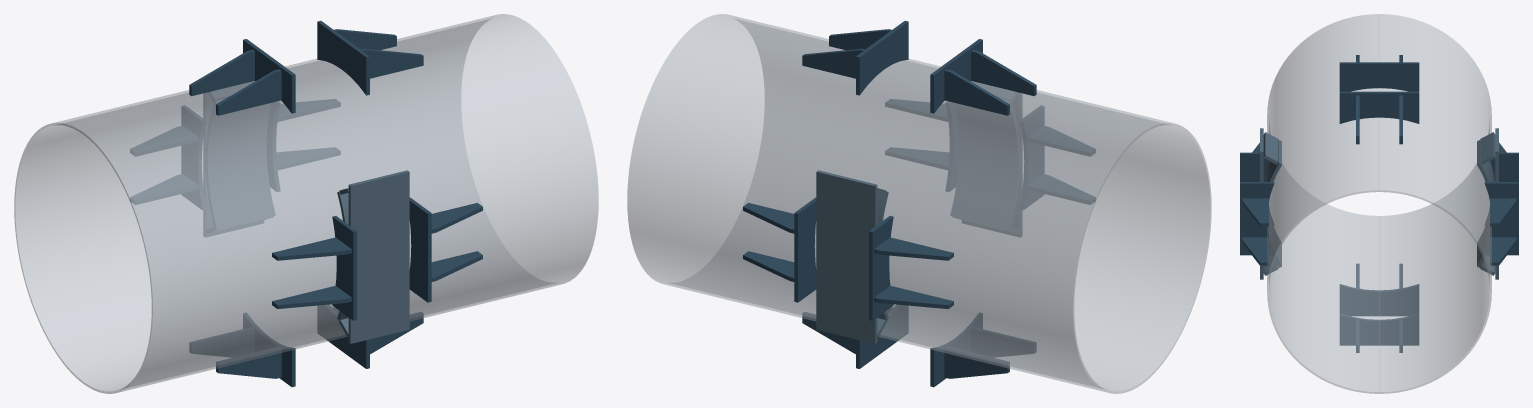
The model's file is TS-668.00.00-20-opora-dn1020-ris2.glb.
3 views of the same model, side by side, from view 1: azimuth 30°, elevation 25°; view 2: azimuth 150°, elevation 25°; view 3: azimuth 270°, elevation 25° (orthographic). The views are drawn at different scales.
Parts seen in each view (by area): view 1: truba, bok_26, bok_29, upor_7, upor_1, upor_10, upor_22, upor_6, upor_5, upor_17, upor_13, upor_18 (+15 smaller); view 2: truba, bok_30, bok_25, upor_19, upor_1, upor_22, upor_10, upor_5, upor_6, upor_18, upor_13, upor_17 (+15 smaller); view 3: truba, upor_16, upor_4, upor_1, upor_13, upor_7, upor_19, bok_25, bok_29, upor_10, upor_22, upor_9 (+7 smaller).
Part boxes in pixels (box(x1,y1,x2,y2)): truba: box(14, 14, 598, 393); bok_26: box(348, 170, 409, 343); bok_29: box(206, 99, 275, 229); upor_7: box(409, 197, 431, 302); upor_1: box(317, 20, 369, 95); upor_10: box(332, 216, 356, 320); upor_22: box(181, 106, 205, 209); upor_6: box(216, 69, 281, 115); upor_5: box(189, 49, 254, 96); upor_17: box(216, 346, 281, 378); upor_13: box(317, 305, 369, 368); upor_18: box(189, 327, 254, 357); truba: box(627, 14, 1211, 393); bok_30: box(816, 170, 877, 343); bok_25: box(950, 99, 1019, 229); upor_19: box(794, 197, 816, 302); upor_1: box(856, 20, 908, 95); upor_22: box(869, 216, 893, 320); upor_10: box(1020, 106, 1044, 209); upor_5: box(944, 69, 1009, 115); upor_6: box(971, 49, 1036, 96); upor_18: box(944, 346, 1009, 378); upor_13: box(856, 305, 908, 368); upor_17: box(971, 327, 1036, 357); truba: box(1267, 14, 1491, 393); upor_16: box(1339, 284, 1419, 316); upor_4: box(1339, 62, 1419, 91); upor_1: box(1339, 91, 1419, 123); upor_13: box(1339, 313, 1419, 345); upor_7: box(1240, 182, 1274, 255); upor_19: box(1484, 182, 1518, 255); bok_25: box(1264, 140, 1281, 267); bok_29: box(1477, 140, 1494, 267); upor_10: box(1240, 152, 1273, 224); upor_22: box(1485, 152, 1518, 224); upor_9: box(1242, 237, 1268, 265).
Size of the model in its own units: 1892 by 1264 by 1264.
